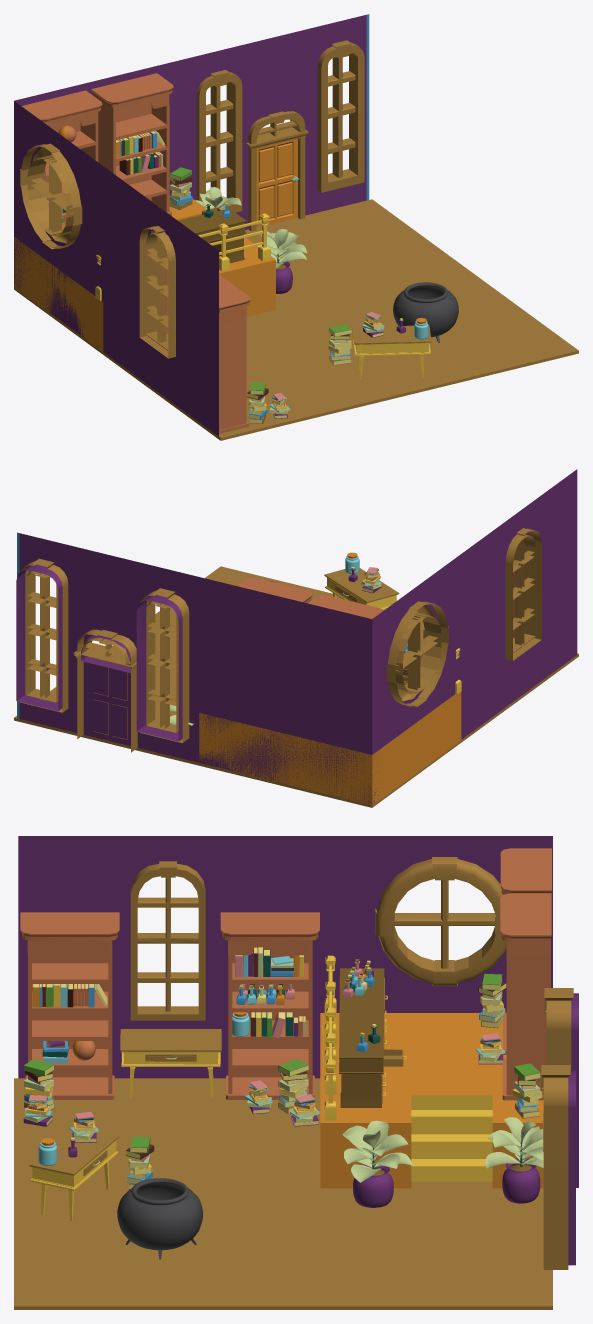
File: Scene 2_Sketchfab.fbx
3 views of the same model, one above another, from view 1: azimuth 30°, elevation 25°; view 2: azimuth 150°, elevation 25°; view 3: azimuth 270°, elevation 25° (orthographic). The views are drawn at different scales.
Parts seen in each view (by area): view 1: Ground, polySurface3, polySurface6, polySurface1, Bookcase3:bookcase, Door:Door, window_tallskinny1:Frame, Bookcase:bookcase, window_round:Circle, window_tallskinny:Frame, window_large:pain, Bookcase2:bookcase (+7 smaller); view 2: polySurface6, polySurface3, polySurface1, Ground, window_round:Circle, window_tallskinny:Frame, window_large:pain, window_tallskinny1:Frame, Door:Door, window_tallskinny:beams, window_tallskinny1:beams, small_Table1:main_table (+4 smaller); view 3: Ground, polySurface3, polySurface1, Bookcase:bookcase, Bookcase1:bookcase, Bookcase3:bookcase, window_round:Circle, table_long:desk, window_tallskinny1:Frame, cauldron:cauldron, window_large:pain, small_Table:main_table (+8 smaller).
Part boxes in pixels (x1,y1,x2,y2): Ground: (14, 199, 578, 440); polySurface3: (14, 101, 218, 436); polySurface6: (14, 14, 369, 230); polySurface1: (14, 199, 275, 352); Bookcase3:bookcase: (91, 73, 173, 215); Door:Door: (246, 111, 308, 231); window_tallskinny1:Frame: (317, 40, 364, 192); Bookcase:bookcase: (219, 274, 250, 433); window_round:Circle: (20, 143, 82, 249); window_tallskinny:Frame: (196, 70, 242, 212); window_large:pain: (139, 226, 175, 358); Bookcase2:bookcase: (21, 90, 102, 227); polySurface6: (16, 532, 372, 804); polySurface3: (372, 469, 577, 803); polySurface1: (199, 692, 461, 805); Ground: (14, 566, 578, 807); window_round:Circle: (387, 601, 448, 706); window_tallskinny:Frame: (139, 588, 189, 742); window_large:pain: (505, 528, 541, 660); window_tallskinny1:Frame: (19, 558, 68, 712); Door:Door: (73, 629, 137, 752); window_tallskinny:beams: (147, 603, 178, 730); window_tallskinny1:beams: (28, 573, 58, 700); small_Table1:main_table: (324, 568, 399, 609); Ground: (14, 1078, 552, 1309); polySurface3: (18, 836, 552, 1078); polySurface1: (320, 1013, 543, 1188); Bookcase:bookcase: (20, 912, 119, 1099); Bookcase1:bookcase: (220, 912, 319, 1099); Bookcase3:bookcase: (500, 893, 551, 1100); window_round:Circle: (375, 857, 506, 986); table_long:desk: (339, 968, 403, 1107); window_tallskinny1:Frame: (541, 1065, 570, 1269); cauldron:cauldron: (117, 1178, 202, 1250); window_large:pain: (130, 861, 205, 1020); small_Table:main_table: (120, 1029, 221, 1067).
Bounding box in the file's own units: 22.97 × 11.08 × 23.05.
1 material, 1 textured.
